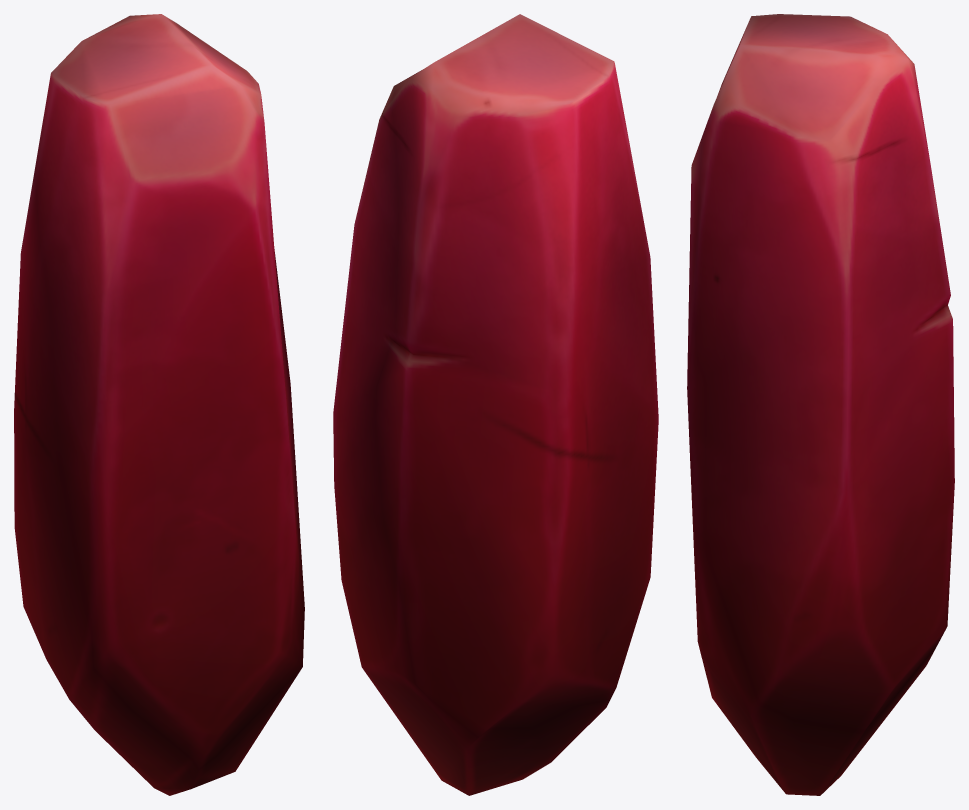
Rendered from SM_Gem_Ruby_004.fbx.
3 renders of one model, left to right at view 1: azimuth 30°, elevation 25°; view 2: azimuth 150°, elevation 25°; view 3: azimuth 270°, elevation 25°, orthographic.
Visible parts, largest first — view 1: SM_Gem_Ruby_004; view 2: SM_Gem_Ruby_004; view 3: SM_Gem_Ruby_004.
Part boxes in pixels (left/top/right/bottom): SM_Gem_Ruby_004: left=14, top=14, right=304, bottom=795; SM_Gem_Ruby_004: left=333, top=14, right=658, bottom=795; SM_Gem_Ruby_004: left=687, top=14, right=954, bottom=795.
Bounding box in the file's own units: 17.8 × 48.33 × 16.01.
